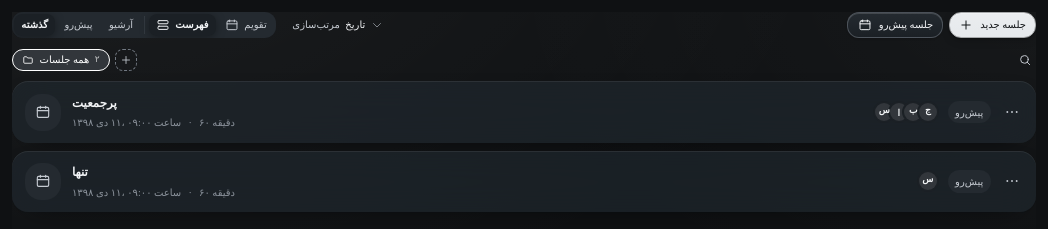
Test: Meetings › sorts from a MENU on row one that reads its field, and the dropdown is gone
Check: the text "تنها" is shown, box [72, 165, 88, 179]
Click the button "مرتب‌سازی تاریخ" at coordinates (338, 25), box [283, 12, 392, 38]
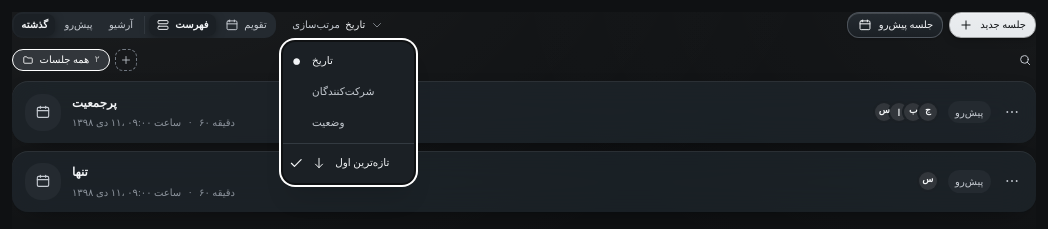
Click the menu item "شرکت‌کنندگان" at coordinates (343, 92), box [312, 86, 374, 97]
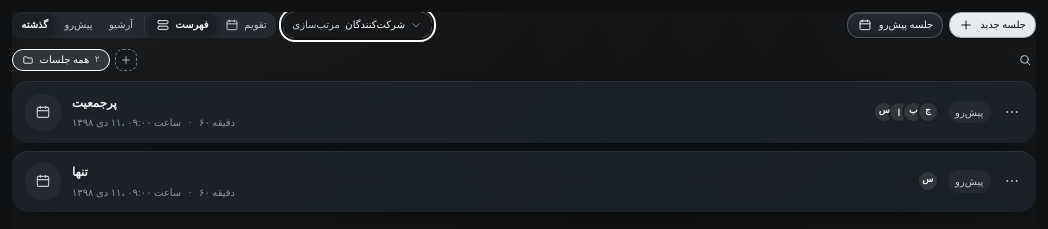
Check: the button "مرتب‌سازی شرکت‌کنندگان" is shown, box [283, 12, 432, 38]
